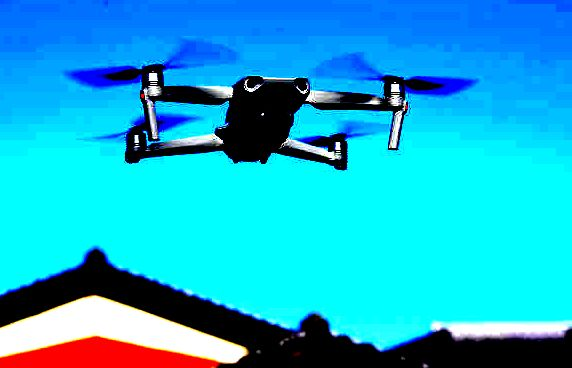Drone: (64, 30, 481, 176)
